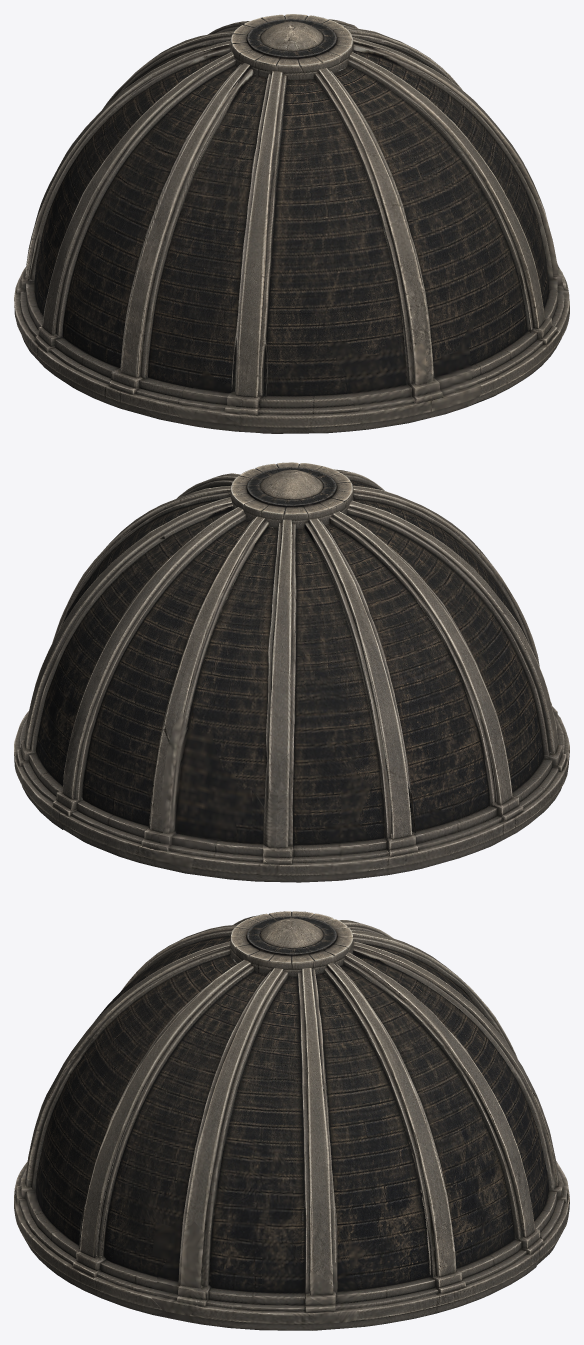
File: prison_dome.glb
The picture shows the model from 3 angles, top to bottom: view 1: azimuth 30°, elevation 25°; view 2: azimuth 150°, elevation 25°; view 3: azimuth 270°, elevation 25°; orthographic projection.
Visible parts, largest first — view 1: Mesh_0; view 2: Mesh_0; view 3: Mesh_0.
Boxes of the visible parts, bbox=[...] form: Mesh_0: bbox=[14, 14, 569, 433]; Mesh_0: bbox=[14, 462, 569, 882]; Mesh_0: bbox=[14, 911, 569, 1330].
Bounding box in the file's own units: 1.9 × 1.12 × 1.9.
1 material, 1 textured.
